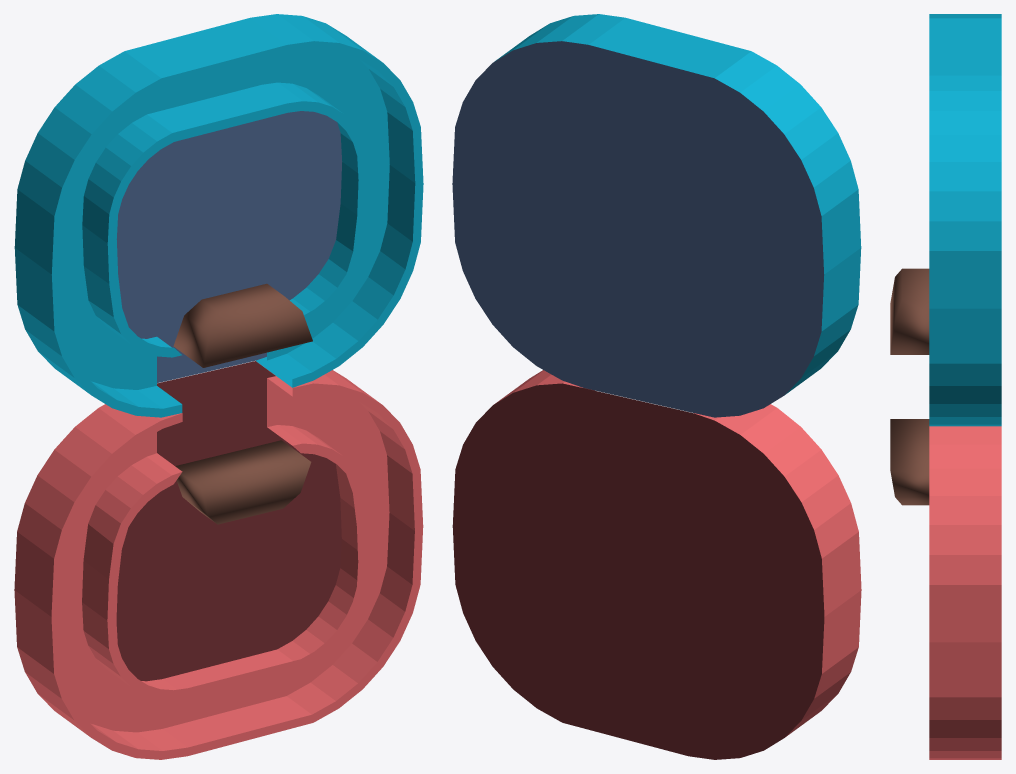
File: AmongUsCont.fbx
The picture shows the model from 3 angles, left to right: view 1: azimuth 30°, elevation 25°; view 2: azimuth 150°, elevation 25°; view 3: azimuth 270°, elevation 25°; orthographic projection. The views are drawn at different scales.
Visible parts, largest first — view 1: RedCont, BlueCont, BluePush, RedePush; view 2: BlueCont, RedCont; view 3: BlueCont, RedCont, RedePush, BluePush.
Boxes of the visible parts, x1,y1,x2,y2 form: RedCont: (14,361,423,759); BlueCont: (14,14,423,417); BluePush: (173,283,312,367); RedePush: (175,440,311,524); BlueCont: (452,14,861,417); RedCont: (452,370,861,759); BlueCont: (929,14,1001,426); RedCont: (929,426,1001,759); RedePush: (890,419,929,505); BluePush: (890,268,929,354).
Bounding box in the file's own units: 96.02 × 169 × 25.43.
